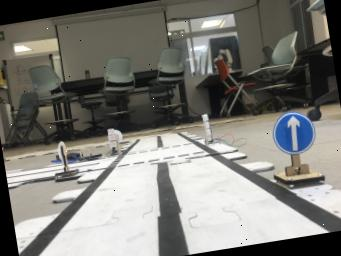forward: (272, 112, 324, 186)
street: (14, 132, 341, 256)
